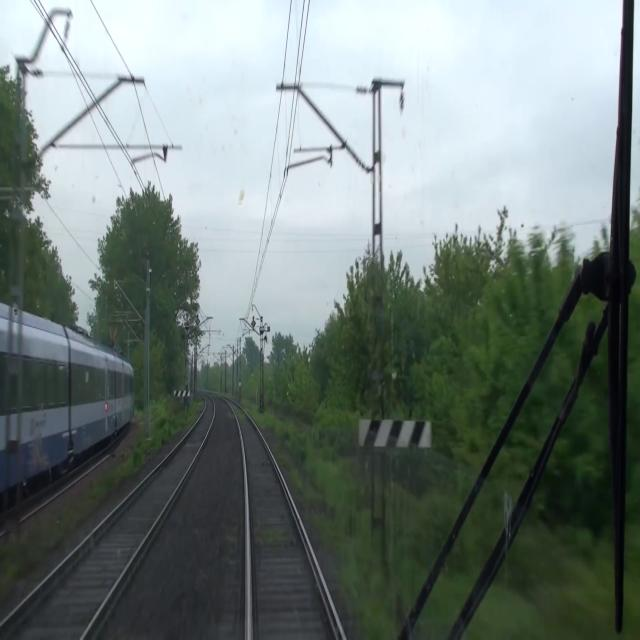rail-track: (0, 400, 212, 639), (234, 407, 340, 639)
